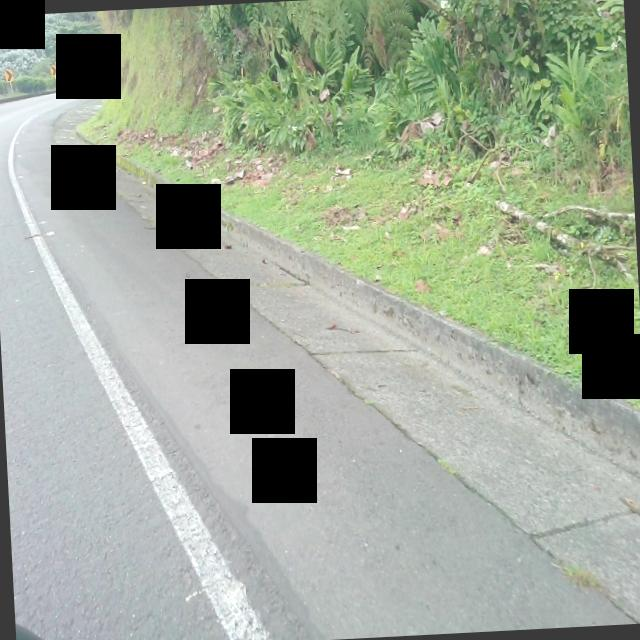DITCH: (33, 54, 640, 640)
